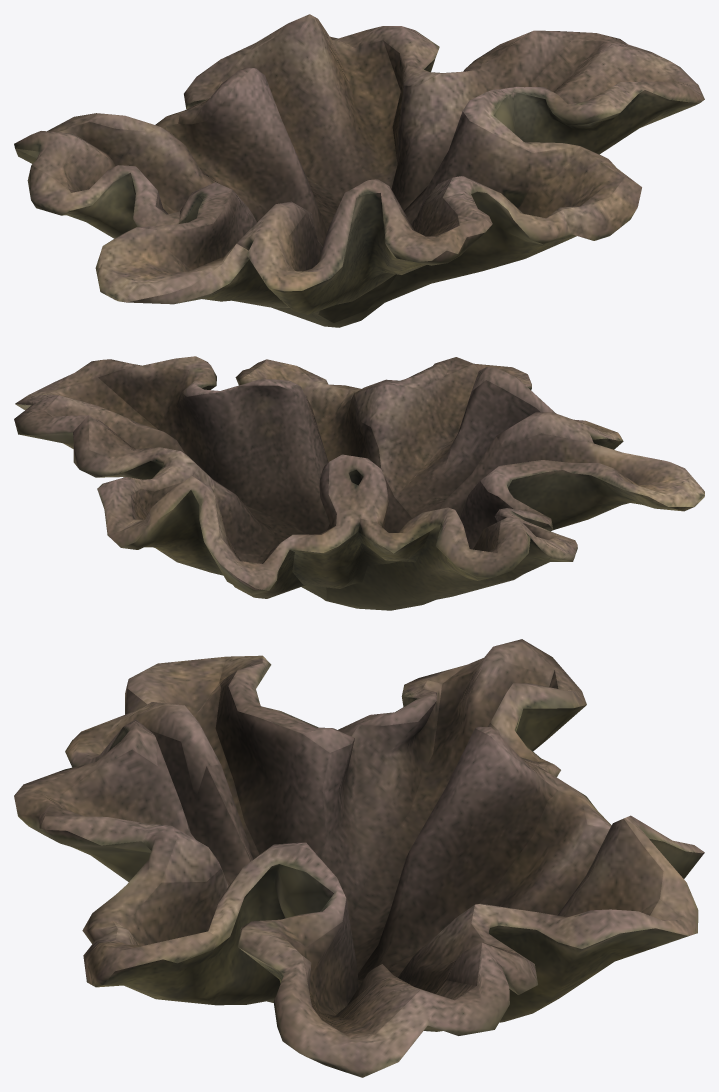
The model's file is Coral07-2.fbx.
3 views of the same model, one above another, from view 1: azimuth 30°, elevation 25°; view 2: azimuth 150°, elevation 25°; view 3: azimuth 270°, elevation 25° (orthographic). The views are drawn at different scales.
Parts seen in each view (by area): view 1: Coral9_3; view 2: Coral9_3; view 3: Coral9_3.
Boxes of the visible parts, box(x1,y1,x2,y2) form: Coral9_3: box(14, 14, 704, 327); Coral9_3: box(14, 356, 704, 610); Coral9_3: box(14, 639, 704, 1077).
Bounding box in the file's own units: 139 × 43.6 × 99.96.
